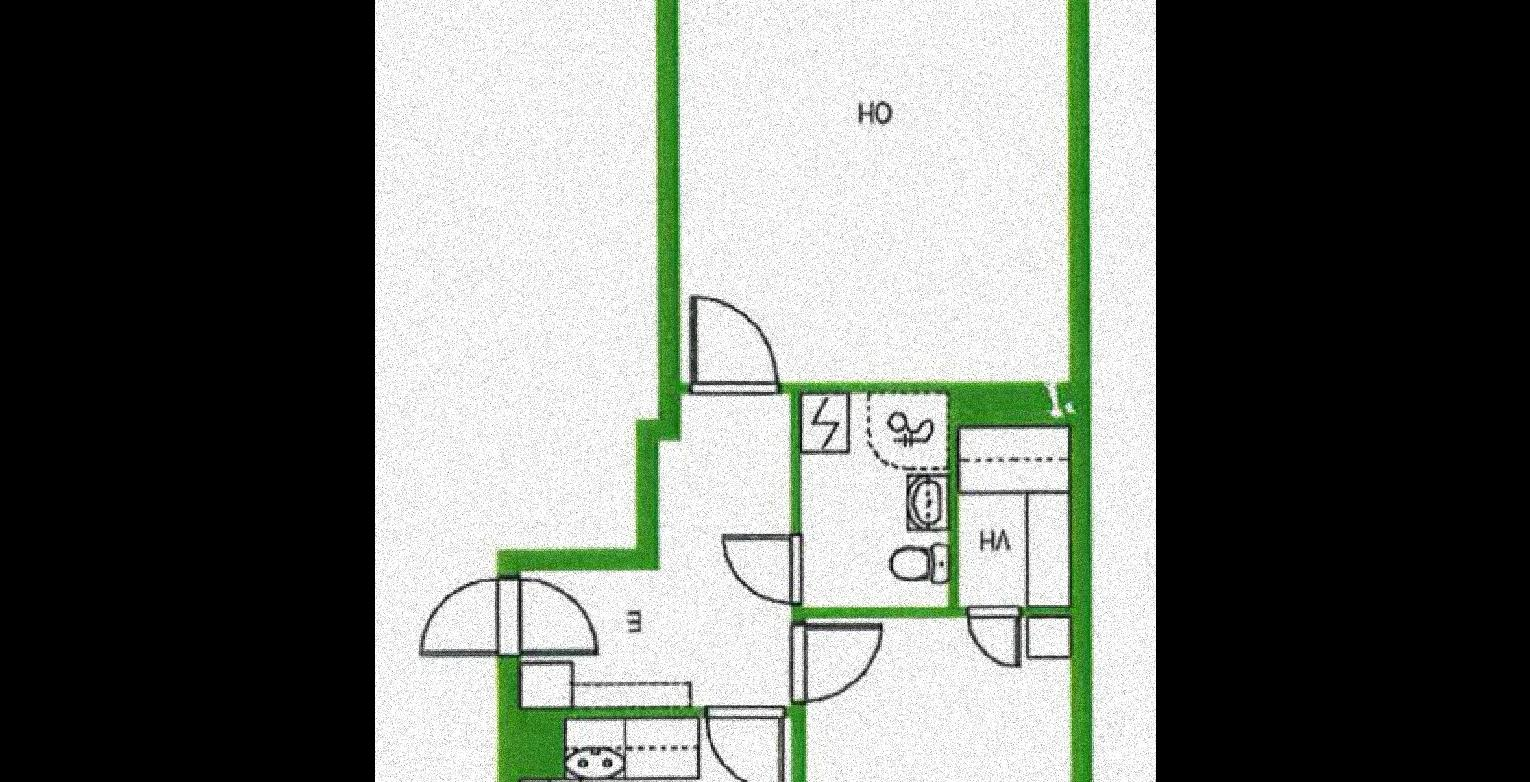door: (412, 574, 610, 673), (683, 296, 779, 396), (787, 620, 882, 706), (706, 697, 787, 782), (717, 533, 806, 608), (963, 590, 1027, 669)
zone: (682, 0, 1068, 384), (517, 393, 797, 707), (803, 619, 1067, 782), (804, 390, 947, 610), (955, 426, 1066, 609), (520, 714, 789, 782)
